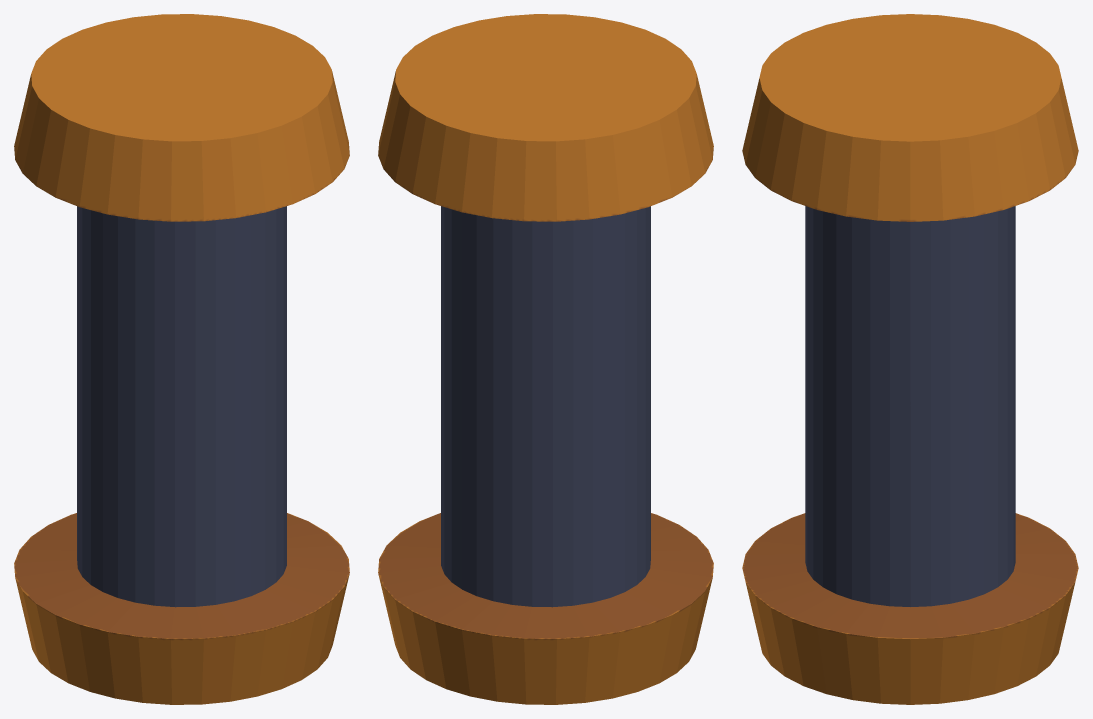
Rendered from pillar.fbx.
3 views of the same model, side by side, from view 1: azimuth 30°, elevation 25°; view 2: azimuth 150°, elevation 25°; view 3: azimuth 270°, elevation 25° (orthographic).
Parts seen in each view (by area): view 1: Pillar; view 2: Pillar; view 3: Pillar.
Part boxes in pixels (x1,y1,x2,y2): Pillar: [14, 14, 349, 704]; Pillar: [378, 14, 713, 704]; Pillar: [742, 14, 1078, 704].
Size of the model in its own units: 628 by 1161 by 628.
